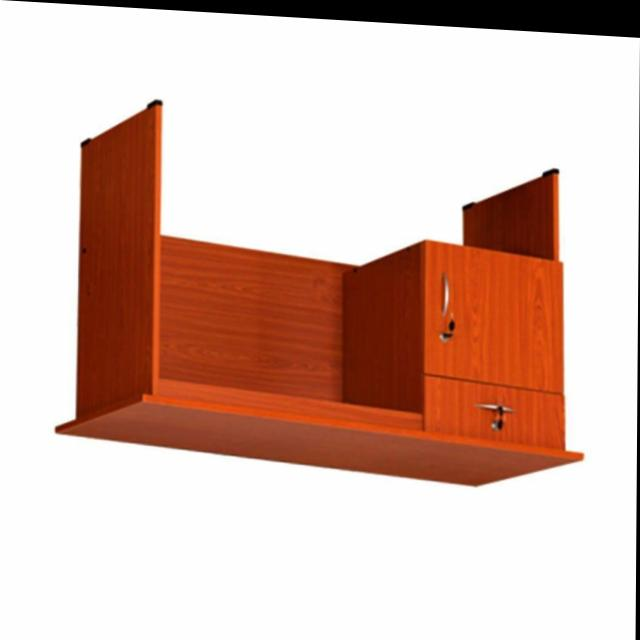Table: (16, 60, 597, 513)
